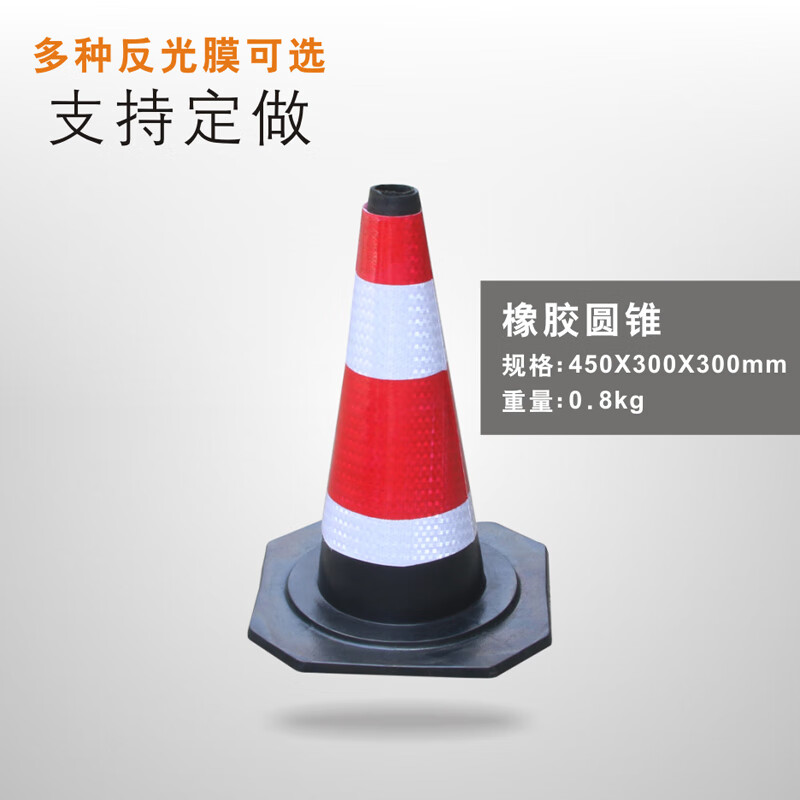traffic_cone: (222, 174, 569, 687)
